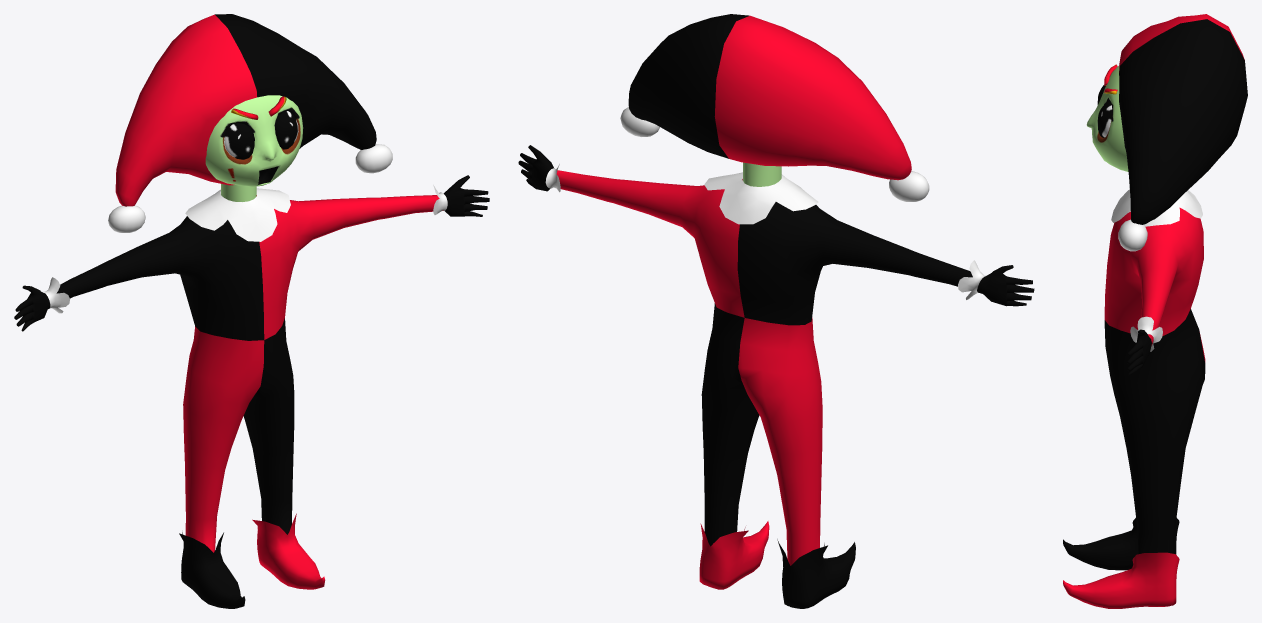
Rendered from jocker.glb.
The picture shows the model from 3 angles, left to right: view 1: azimuth 30°, elevation 25°; view 2: azimuth 150°, elevation 25°; view 3: azimuth 270°, elevation 25°; orthographic projection. The views are drawn at different scales.
Parts seen in each view (by area): view 1: Cube.003; view 2: Cube.003; view 3: Cube.003.
Part boxes in pixels (bbox=[...]): Cube.003: bbox=[14, 14, 489, 608]; Cube.003: bbox=[518, 14, 1034, 608]; Cube.003: bbox=[1063, 14, 1247, 608].
Size of the model in its own units: 6.16 by 6.74 by 2.
Materials: 1 (1 with a texture image).
